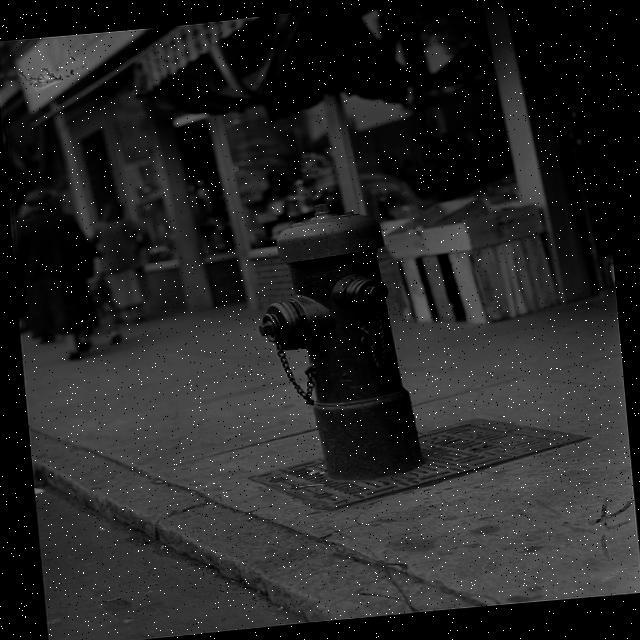fire_hydrant: (242, 194, 422, 496)
